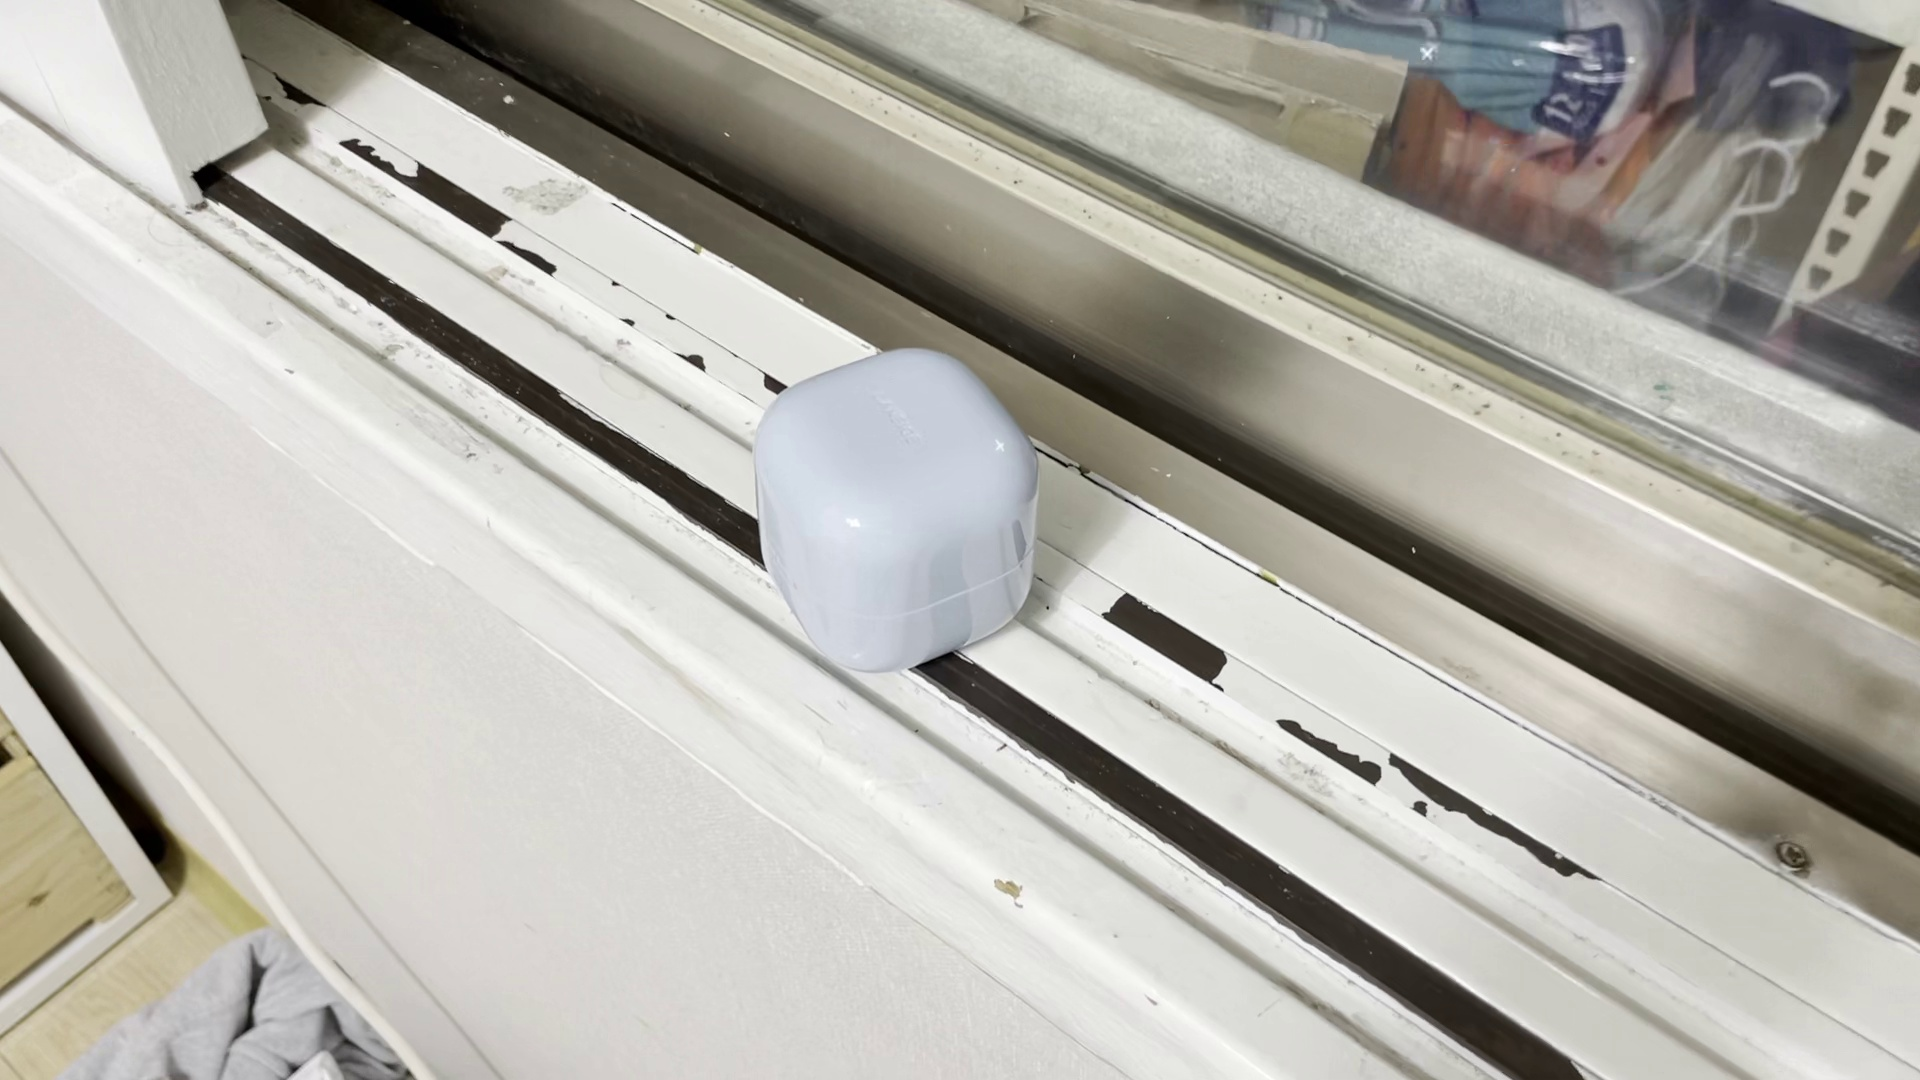cream: (752, 345, 1048, 674)
